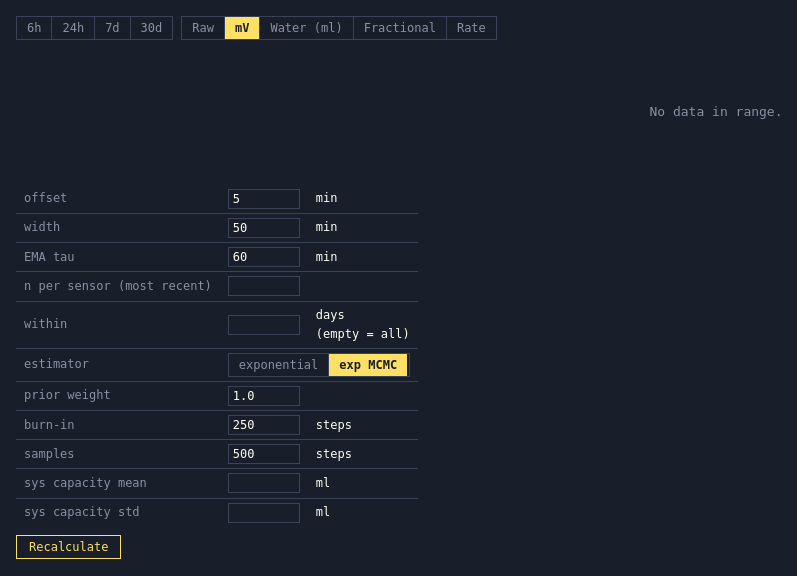
Test case: SensorsPane error handling › shows calibError in water mode when no mappedSeries
The image size is (797, 576).
Click the button "Water (ml)" at (307, 28), box [260, 17, 354, 39]
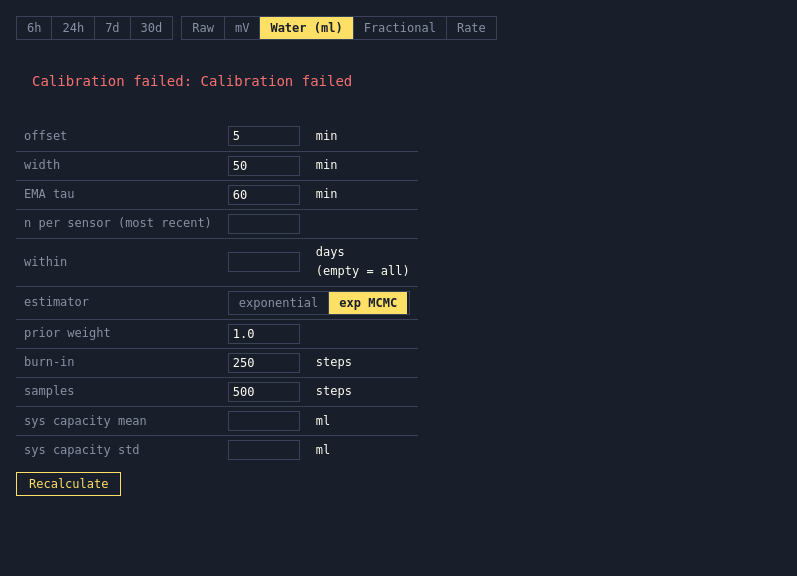
Expected: the text "Calibration failed: Calibration failed" is shown, [32, 73, 352, 89]
